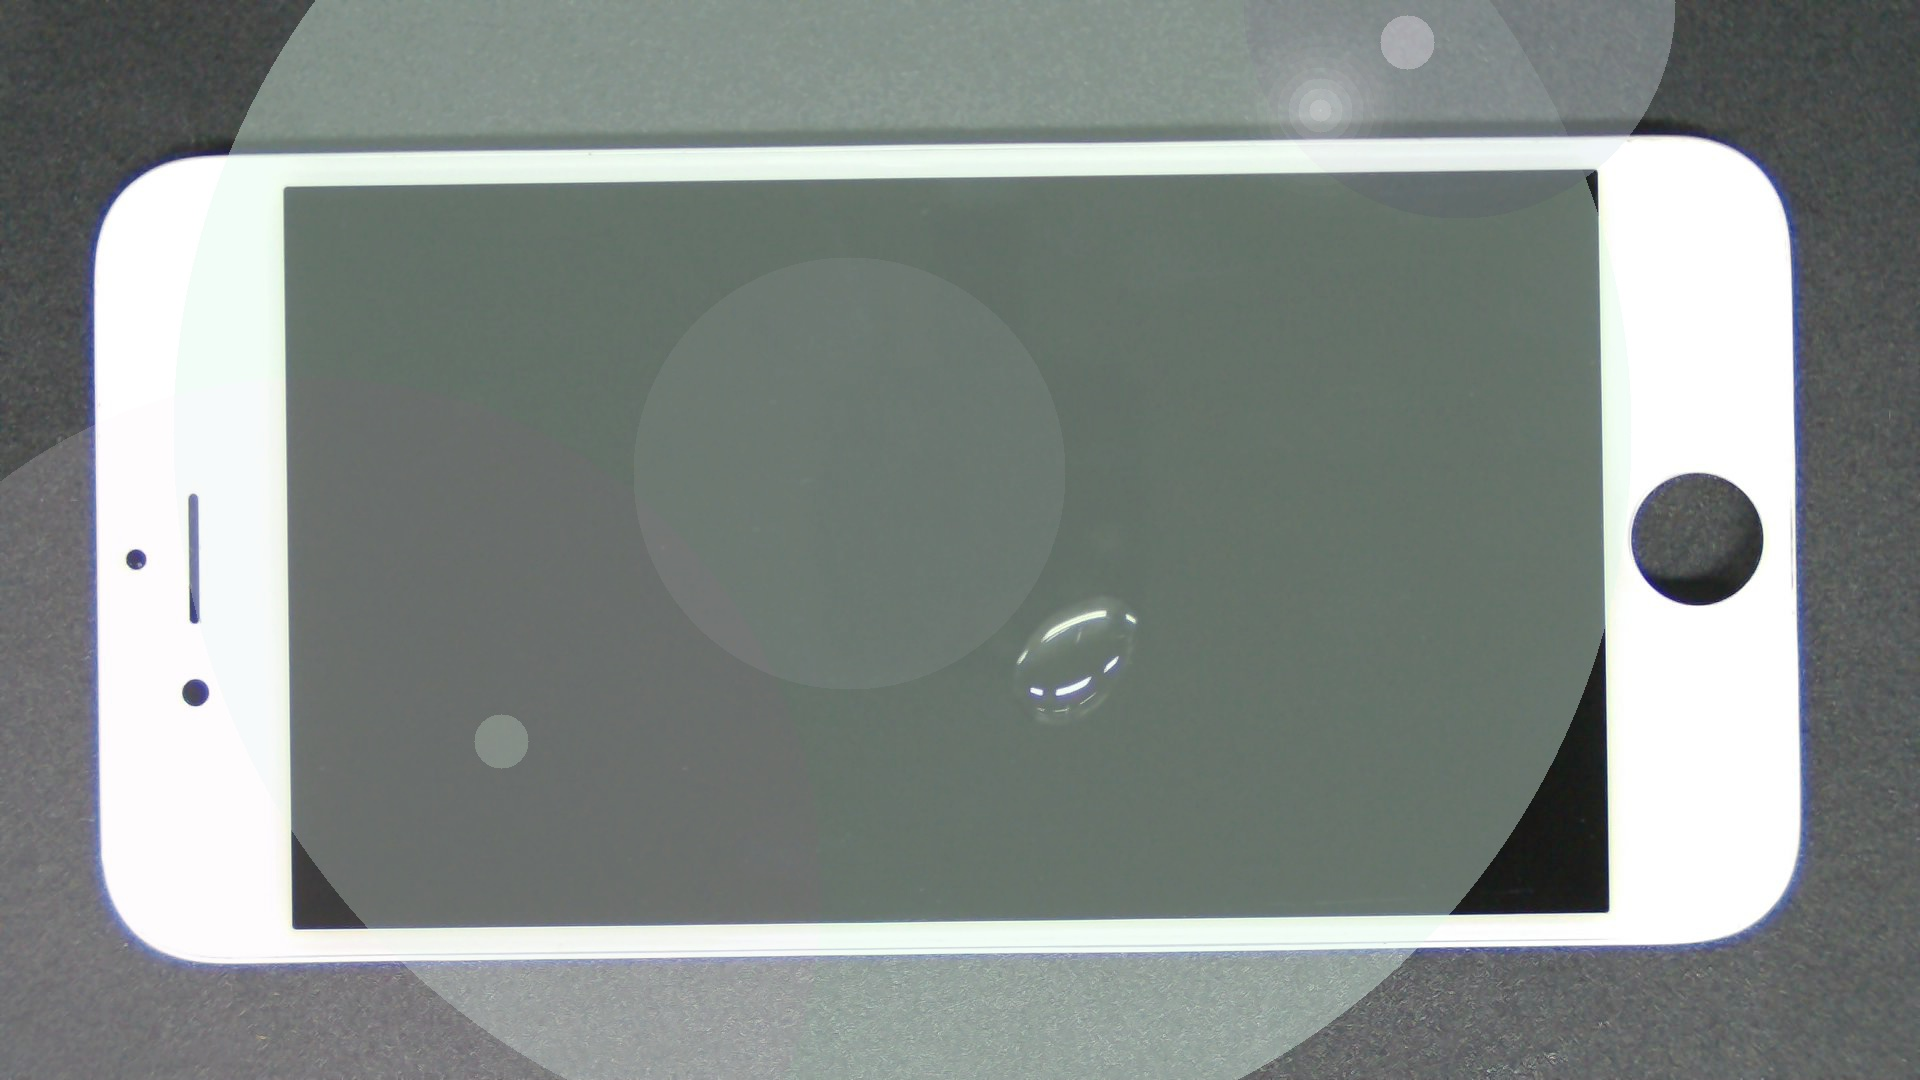oil: (550, 298, 1647, 895)
